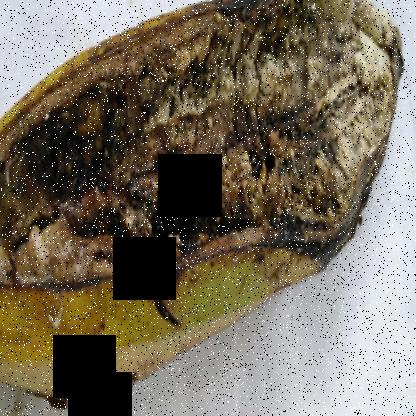rotten: (0, 1, 412, 415)
